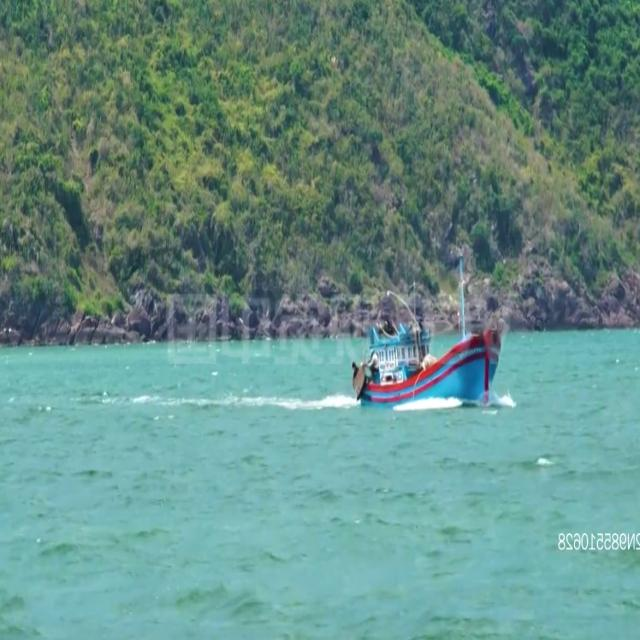fishing boat: (351, 254, 505, 418)
